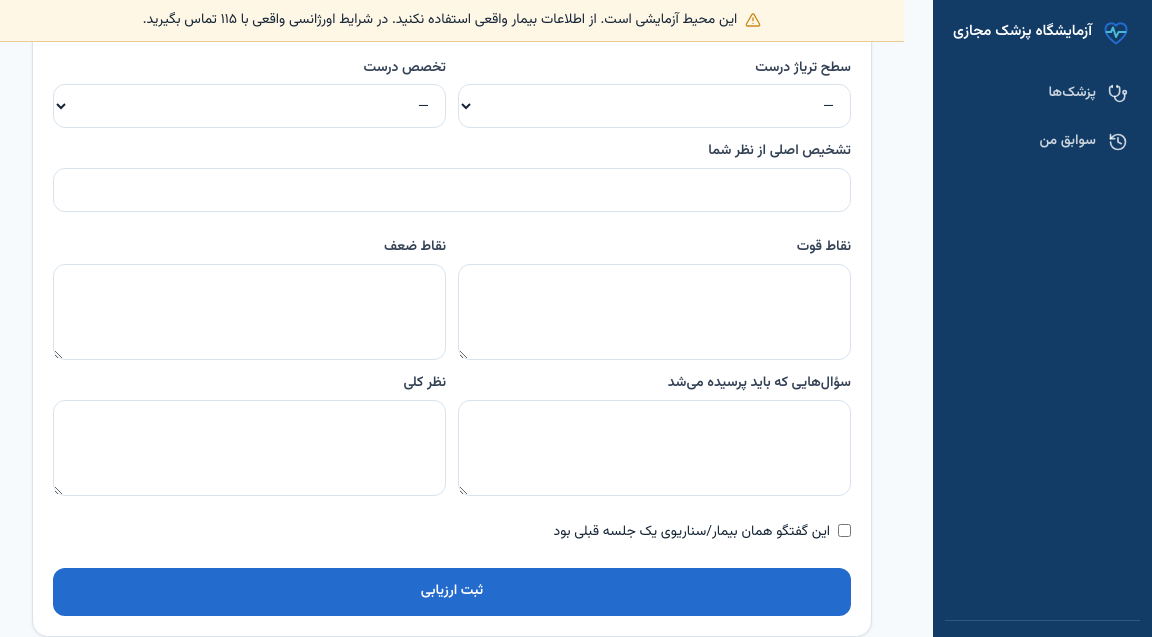
Scenario: evaluation form › blocks submission and marks every missing required field
(page scrolled)
Click the button "ثبت ارزیابی". click: (452, 592)
box: [53, 568, 851, 616]
(page scrolled)
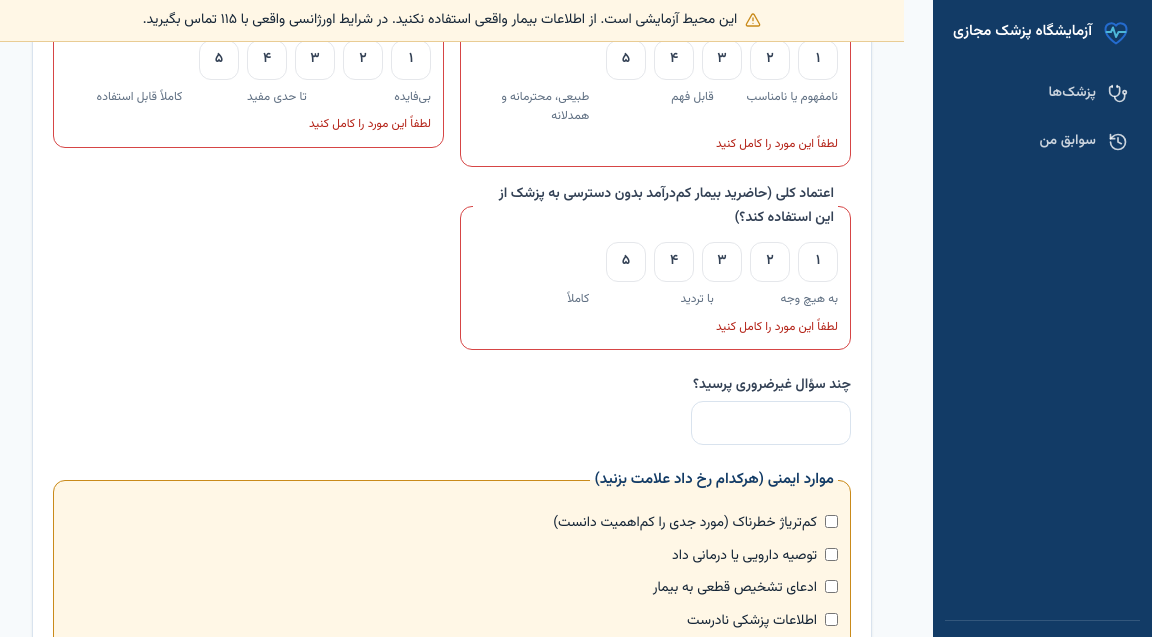
Expected: the text "لطفاً این مورد را کامل کنید" is shown 11 times
